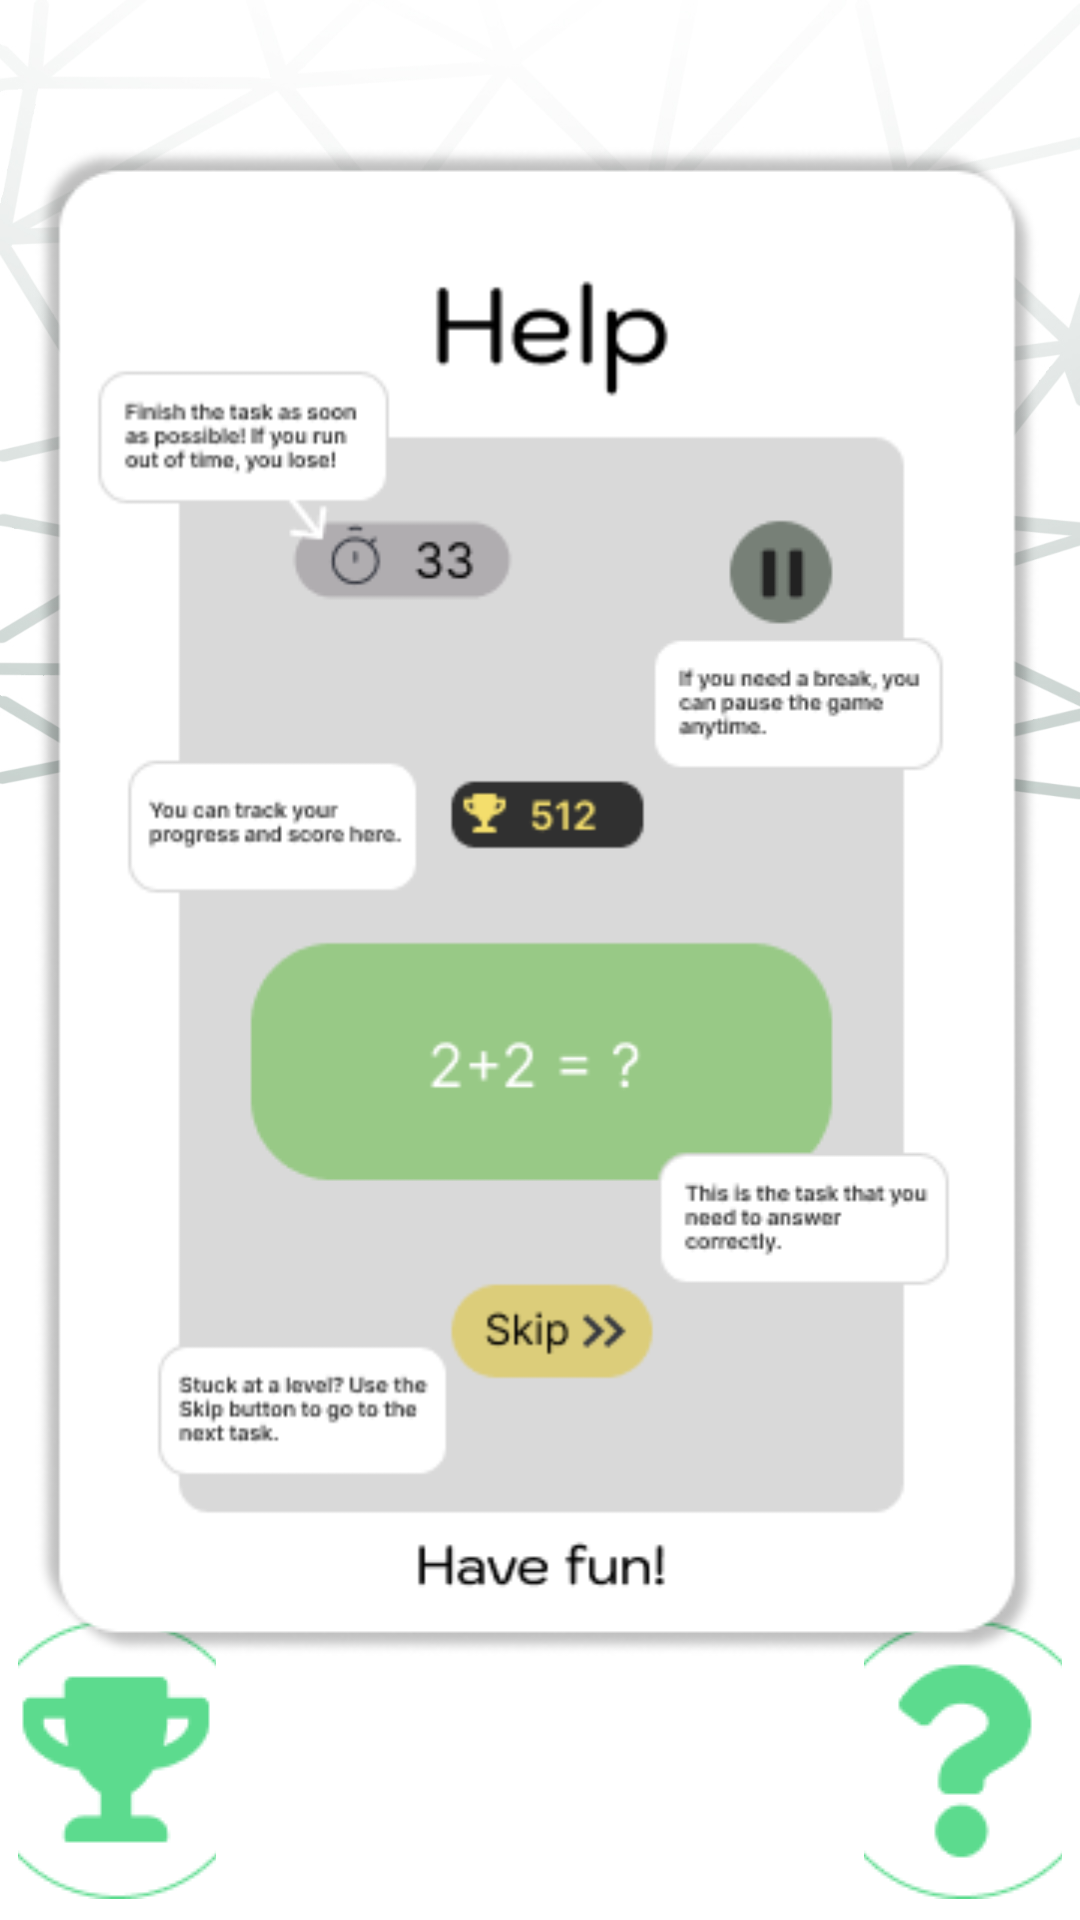

Icons on this 1080 × 1920 Android screen, each with its box as [x1=x1, y1=y1, x2=x2, y2=y2]:
help: [x1=864, y1=1664, x2=1062, y2=1899]
highscores: [x1=18, y1=1676, x2=216, y2=1899]
